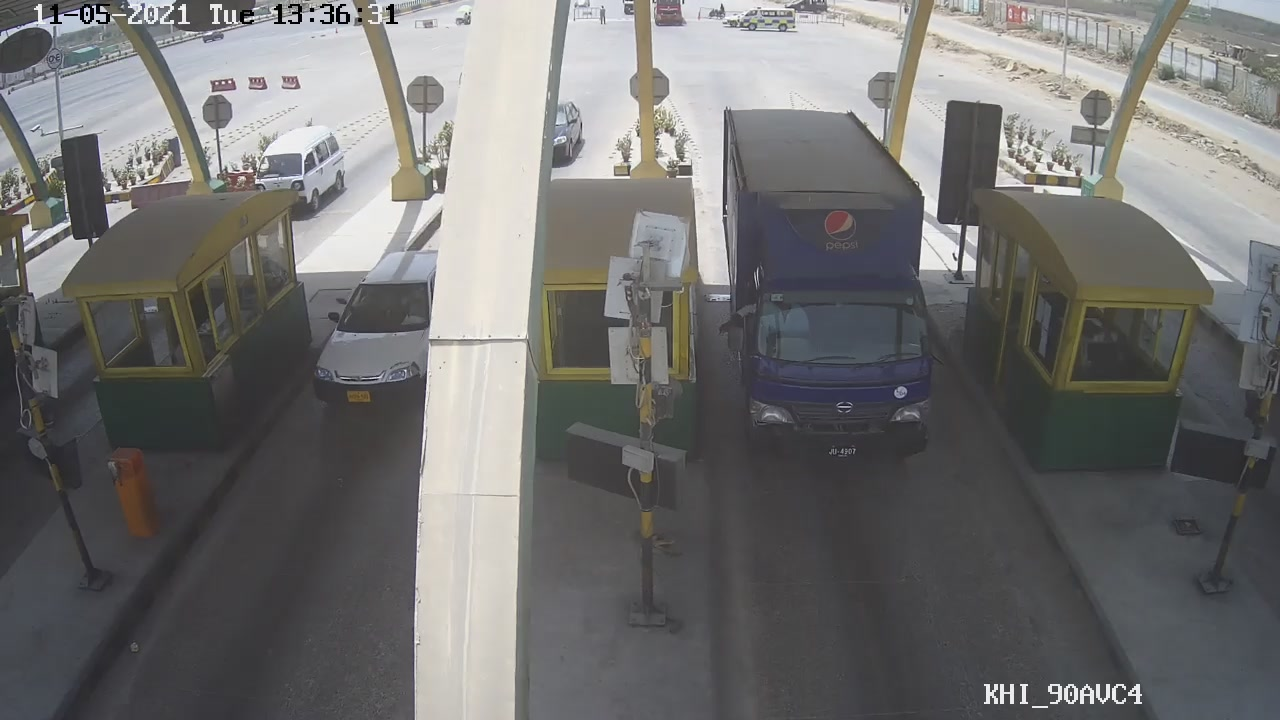F5: (713, 109, 948, 474)
